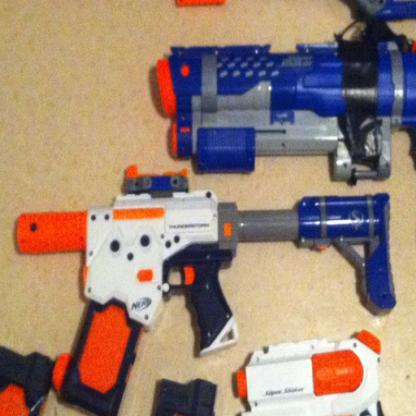gun: (17, 159, 394, 356), (153, 22, 415, 211), (235, 328, 415, 415)
